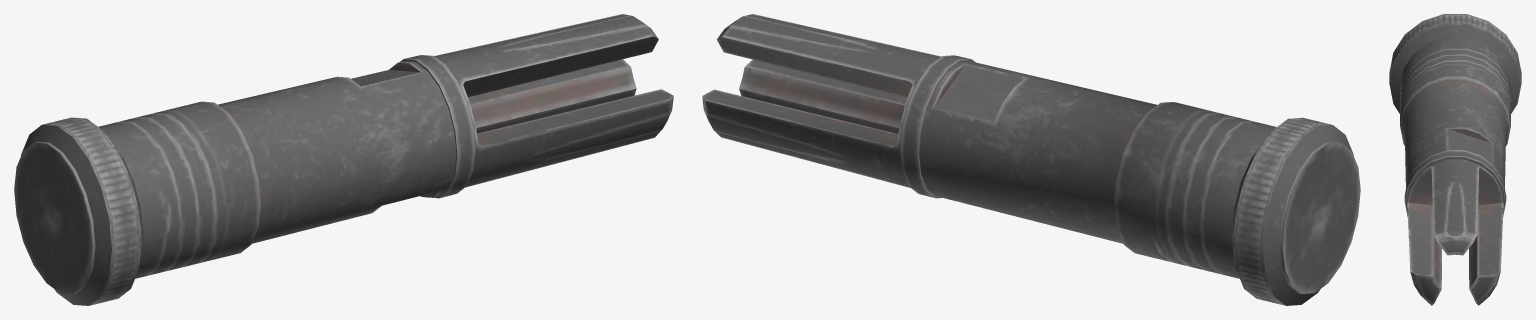
File: ST_Muzzle_FlashHider_Scar.FBX
3 views of the same model, side by side, from view 1: azimuth 30°, elevation 25°; view 2: azimuth 150°, elevation 25°; view 3: azimuth 270°, elevation 25° (orthographic). The views are drawn at different scales.
Parts seen in each view (by area): view 1: ST_Muzzle_FlashHider_Scar; view 2: ST_Muzzle_FlashHider_Scar; view 3: ST_Muzzle_FlashHider_Scar.
Part boxes in pixels (bbox=[...]): ST_Muzzle_FlashHider_Scar: bbox=[14, 14, 673, 305]; ST_Muzzle_FlashHider_Scar: bbox=[702, 14, 1360, 305]; ST_Muzzle_FlashHider_Scar: bbox=[1389, 14, 1521, 305].
Bounding box in the file's own units: 11.38 × 3.06 × 3.11.
Materials: 1 (1 with a texture image).
